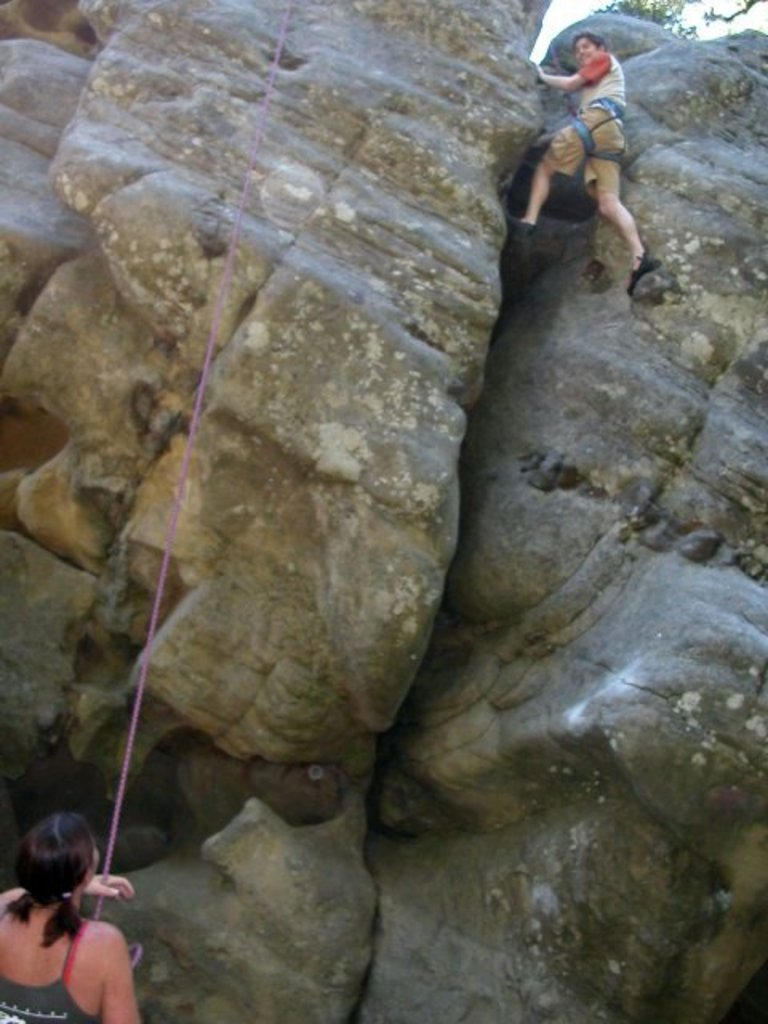person: (504, 25, 672, 294)
